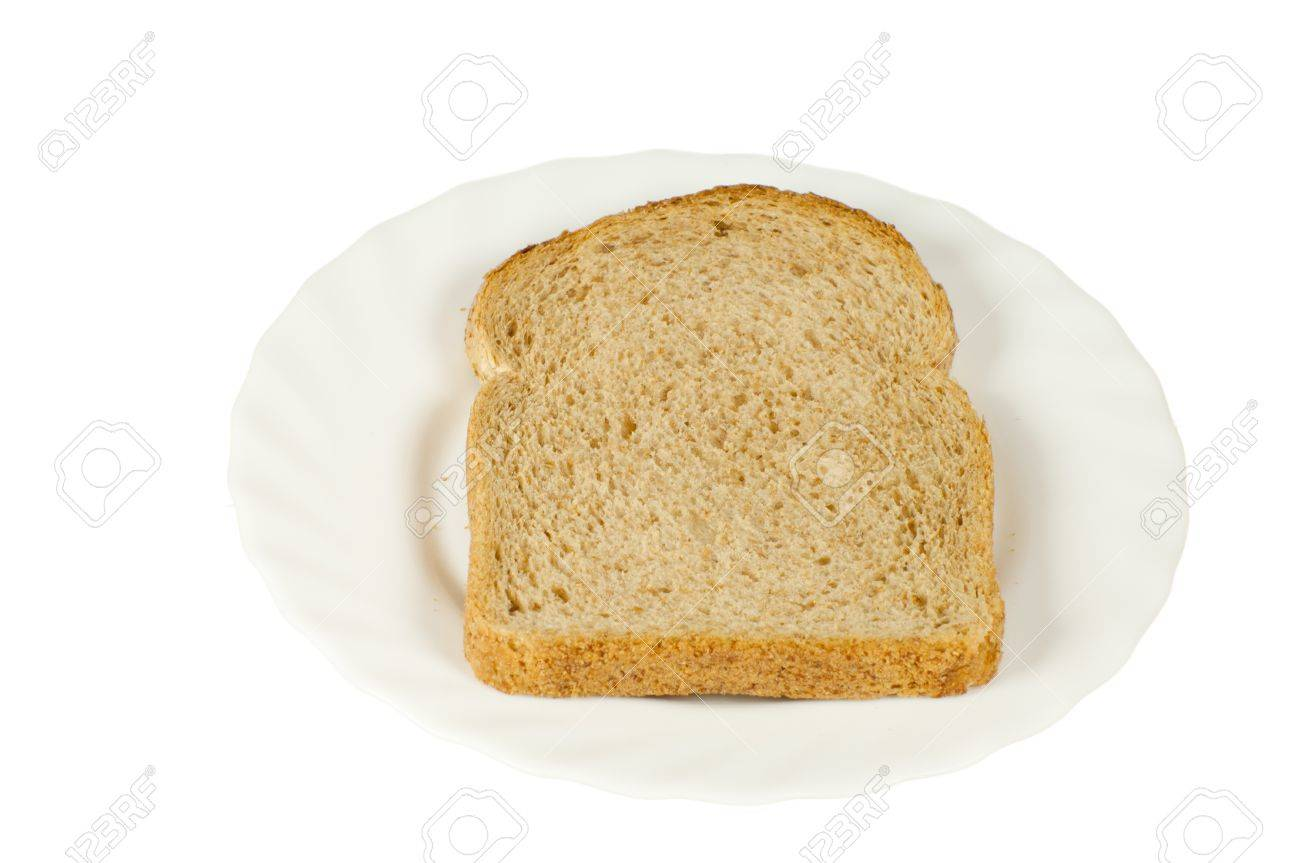slice of bread: (465, 190, 1001, 696)
